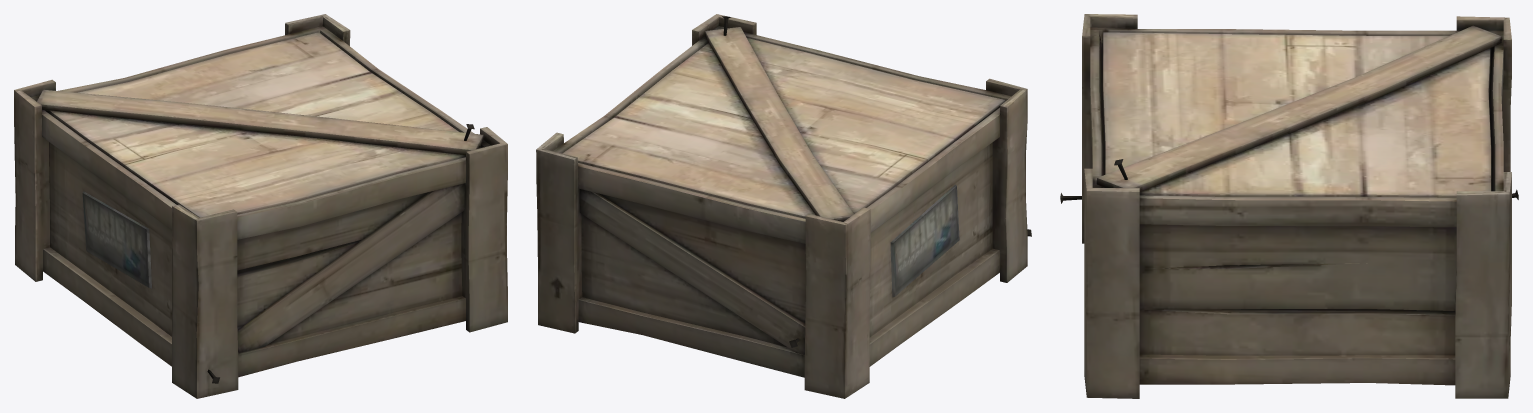
3 renders of one model, left to right at view 1: azimuth 30°, elevation 25°; view 2: azimuth 150°, elevation 25°; view 3: azimuth 270°, elevation 25°, orthographic. The views are drawn at different scales.
Parts seen in each view (by area): view 1: body0_model0_lod0_mesh0; view 2: body0_model0_lod0_mesh0; view 3: body0_model0_lod0_mesh0.
Part boxes in pixels (x1,y1,x2,y2): body0_model0_lod0_mesh0: [14, 14, 507, 398]; body0_model0_lod0_mesh0: [536, 14, 1031, 398]; body0_model0_lod0_mesh0: [1060, 14, 1518, 398].
Size of the model in its own units: 73.36 by 43.13 by 79.34.
Materials: 1 (1 with a texture image).
